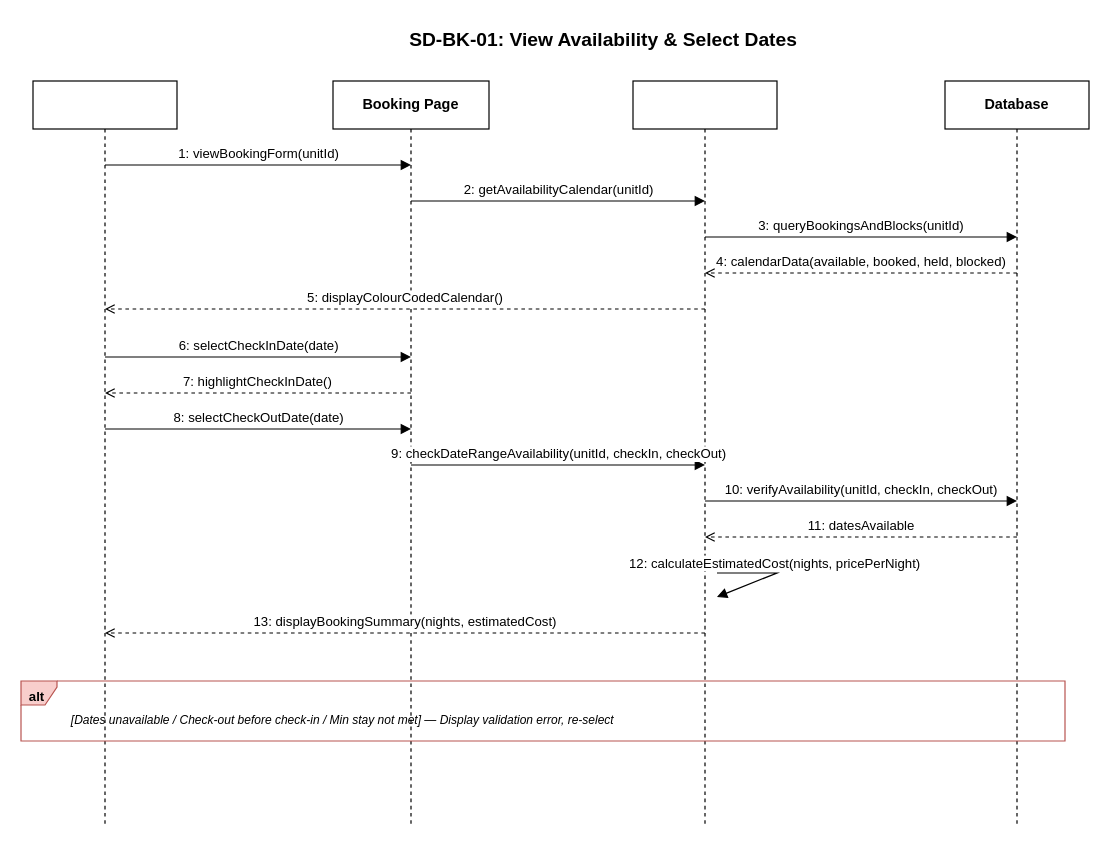
Some shapes in this 1110 by 846 pixel diagram are drawn without their labels. The shapes that lost their labels are listed below. From the top down, each one's box as (x1, y1, x2, y2) in pixels, then its label:
(32, 80, 177, 825): Guest
(632, 80, 777, 825): System
